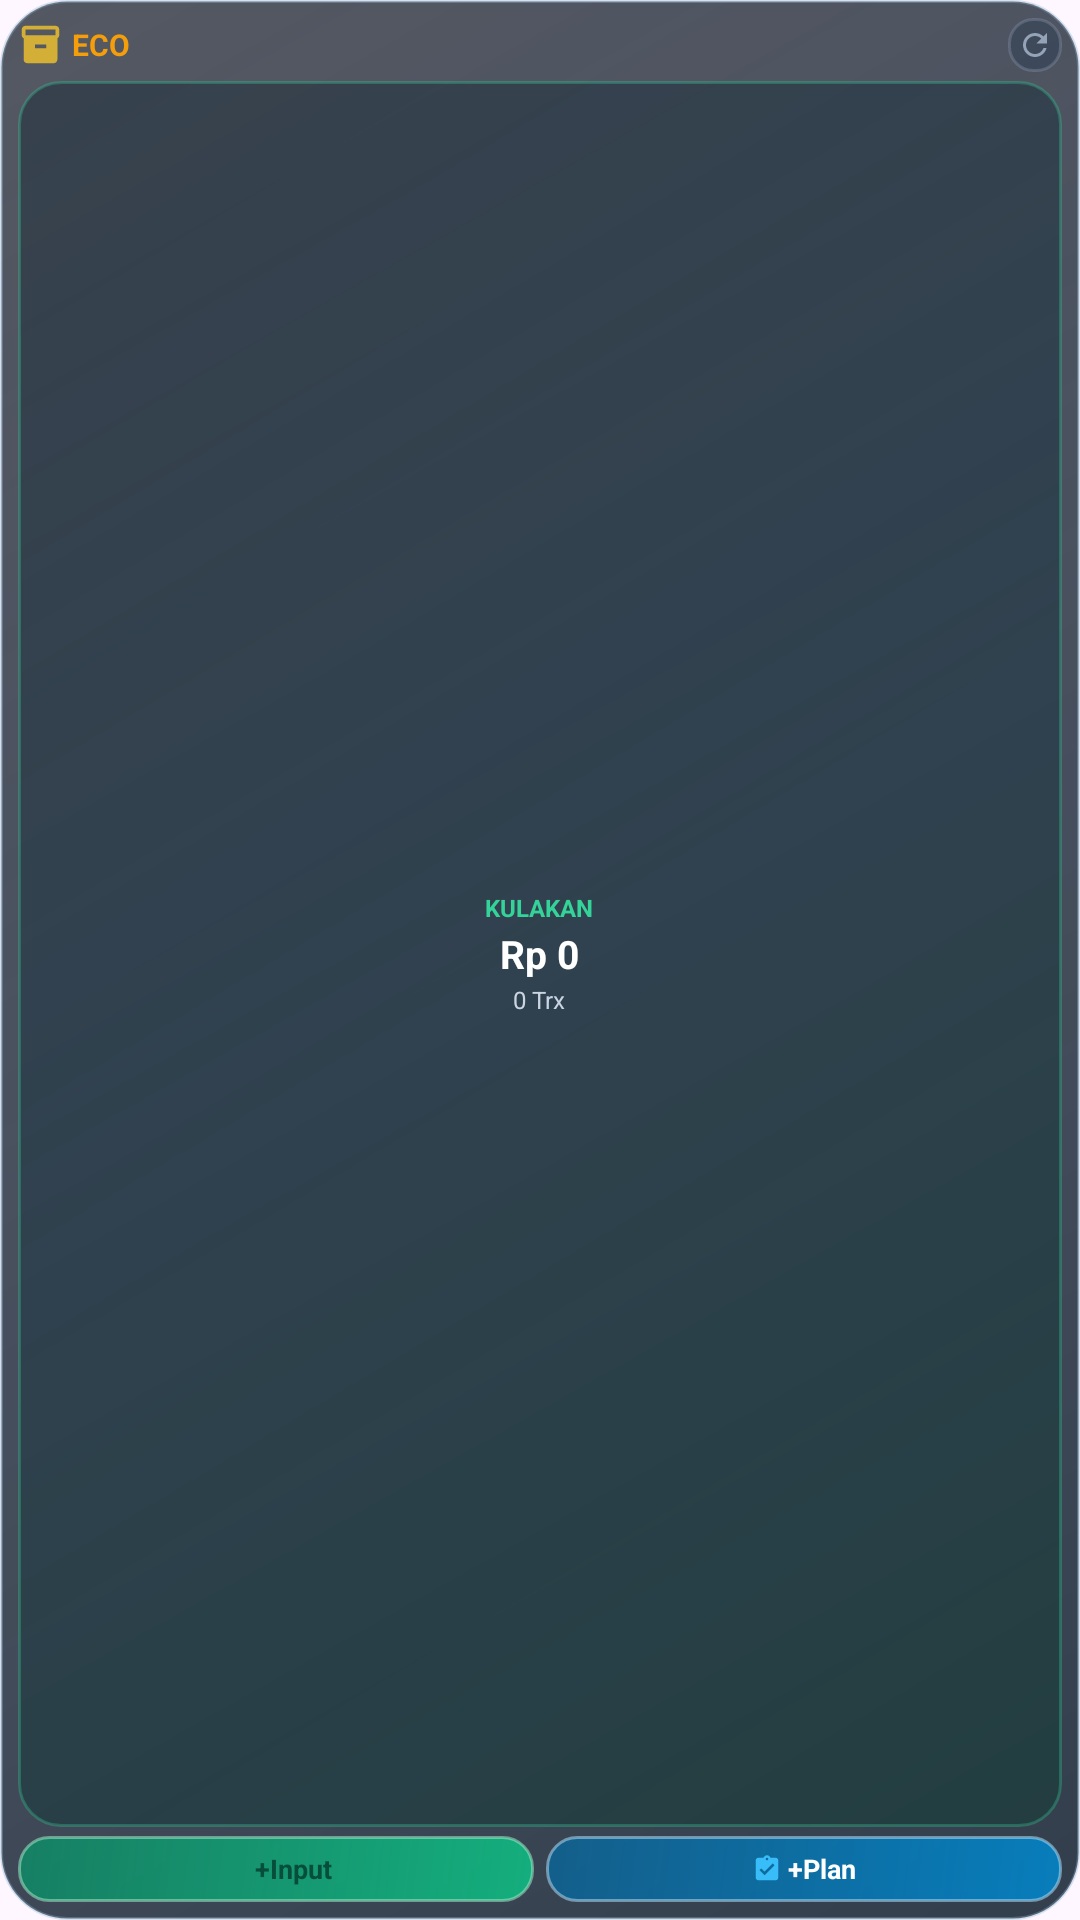

Point at icon controls on the screen. Image size 1080w x 1920h, points as point (x, y).
Segarkan: point (1035, 45)
widget inventory: point (40, 44)
